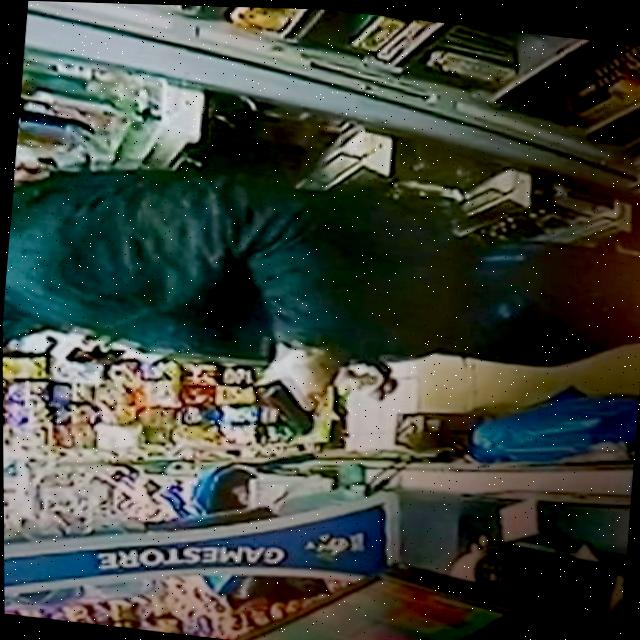pistol: (251, 375, 320, 437)
